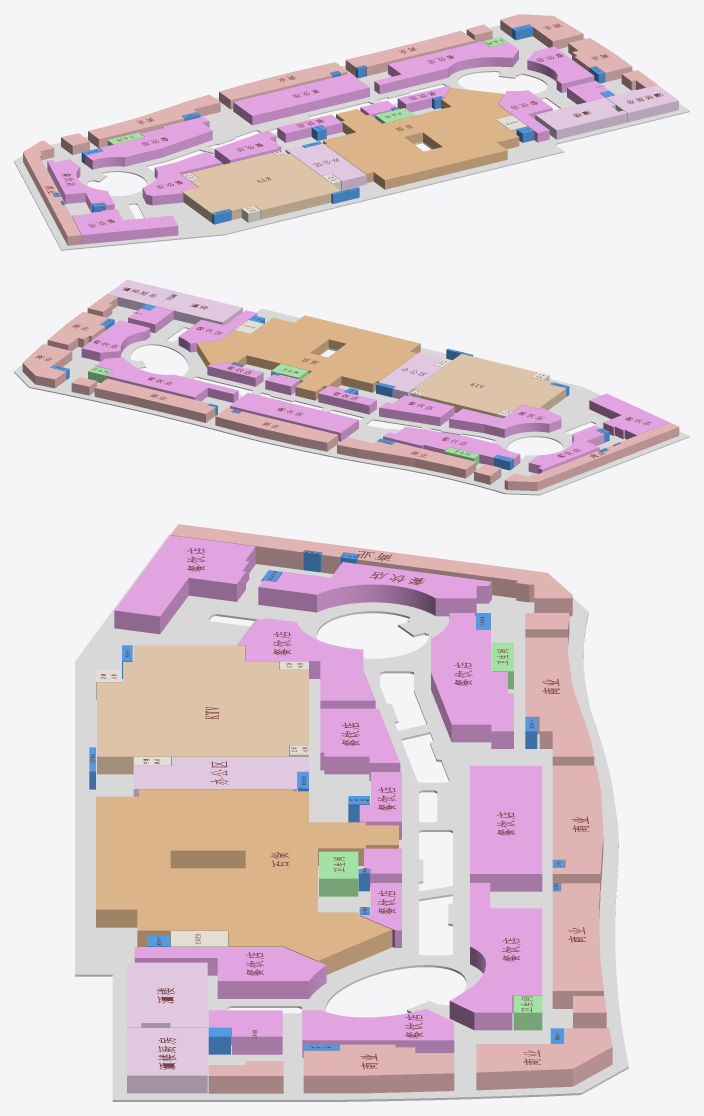
Rendered from 广州万达_3F.fbx.
3 renders of one model, top to bottom at view 1: azimuth 30°, elevation 25°; view 2: azimuth 150°, elevation 25°; view 3: azimuth 270°, elevation 25°, orthographic. The views are drawn at different scales.
Visible parts, largest first — view 1: 餐饮, 楼板, 商业, 百货, KTV, 酒楼厨房, 强弱电间, 办公区, 设备房, 卫生间; view 2: 餐饮, 商业, 楼板, 百货, KTV, 酒楼厨房, 强弱电间, 办公区, 卫生间, 设备房; view 3: 餐饮, 楼板, 商业, 百货, KTV, 酒楼厨房, 办公区, 强弱电间, 卫生间, 设备房.
Boxes of the visible parts, x1,y1,x2,y2 form: 餐饮: [47, 41, 608, 244]; 楼板: [14, 25, 689, 250]; 商业: [23, 14, 657, 245]; 百货: [323, 88, 519, 189]; KTV: [181, 153, 340, 221]; 酒楼厨房: [535, 85, 678, 139]; 强弱电间: [53, 24, 614, 224]; 办公区: [285, 143, 366, 190]; 设备房: [182, 115, 527, 222]; 卫生间: [107, 37, 508, 145]; 餐饮: [81, 306, 669, 473]; 商业: [22, 294, 679, 490]; 楼板: [14, 306, 689, 495]; 百货: [197, 315, 420, 400]; KTV: [413, 353, 566, 416]; 酒楼厨房: [107, 279, 242, 325]; 强弱电间: [50, 304, 620, 470]; 办公区: [378, 352, 442, 398]; 卫生间: [88, 364, 479, 465]; 设备房: [234, 320, 549, 418]; 餐饮: [114, 535, 542, 1057]; 楼板: [75, 533, 628, 1101]; 商业: [170, 524, 612, 1093]; 百货: [96, 789, 398, 974]; KTV: [97, 645, 308, 774]; 酒楼厨房: [127, 962, 207, 1093]; 办公区: [133, 757, 308, 796]; 强弱电间: [89, 550, 564, 1054]; 卫生间: [319, 642, 542, 1030]; 设备房: [96, 661, 308, 946].
Bounding box in the file's own units: 984 × 407 × 16.11.
